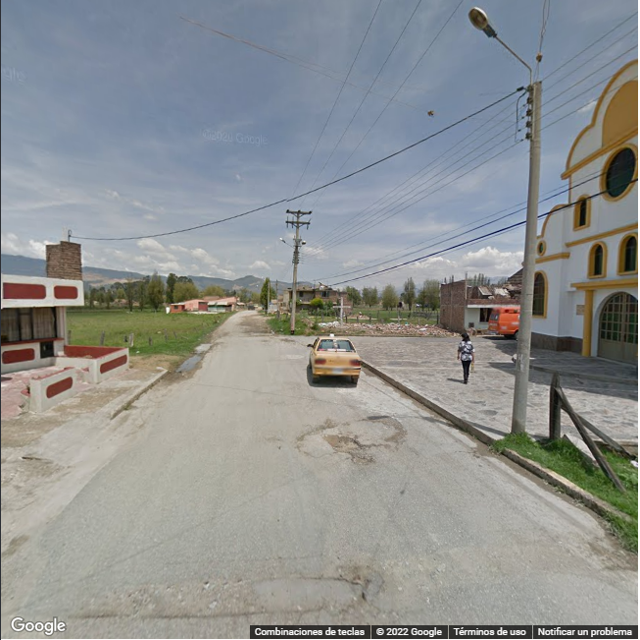D10: (172, 552, 330, 565), (139, 608, 266, 621)
D40: (323, 434, 369, 448), (346, 450, 377, 464)
